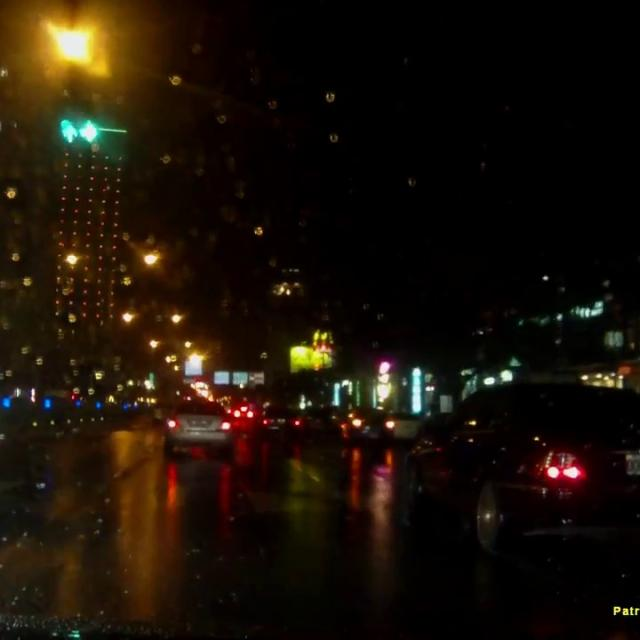Car: (396, 383, 639, 553), (162, 399, 229, 455), (332, 404, 393, 444), (251, 405, 306, 437), (151, 401, 170, 423)
